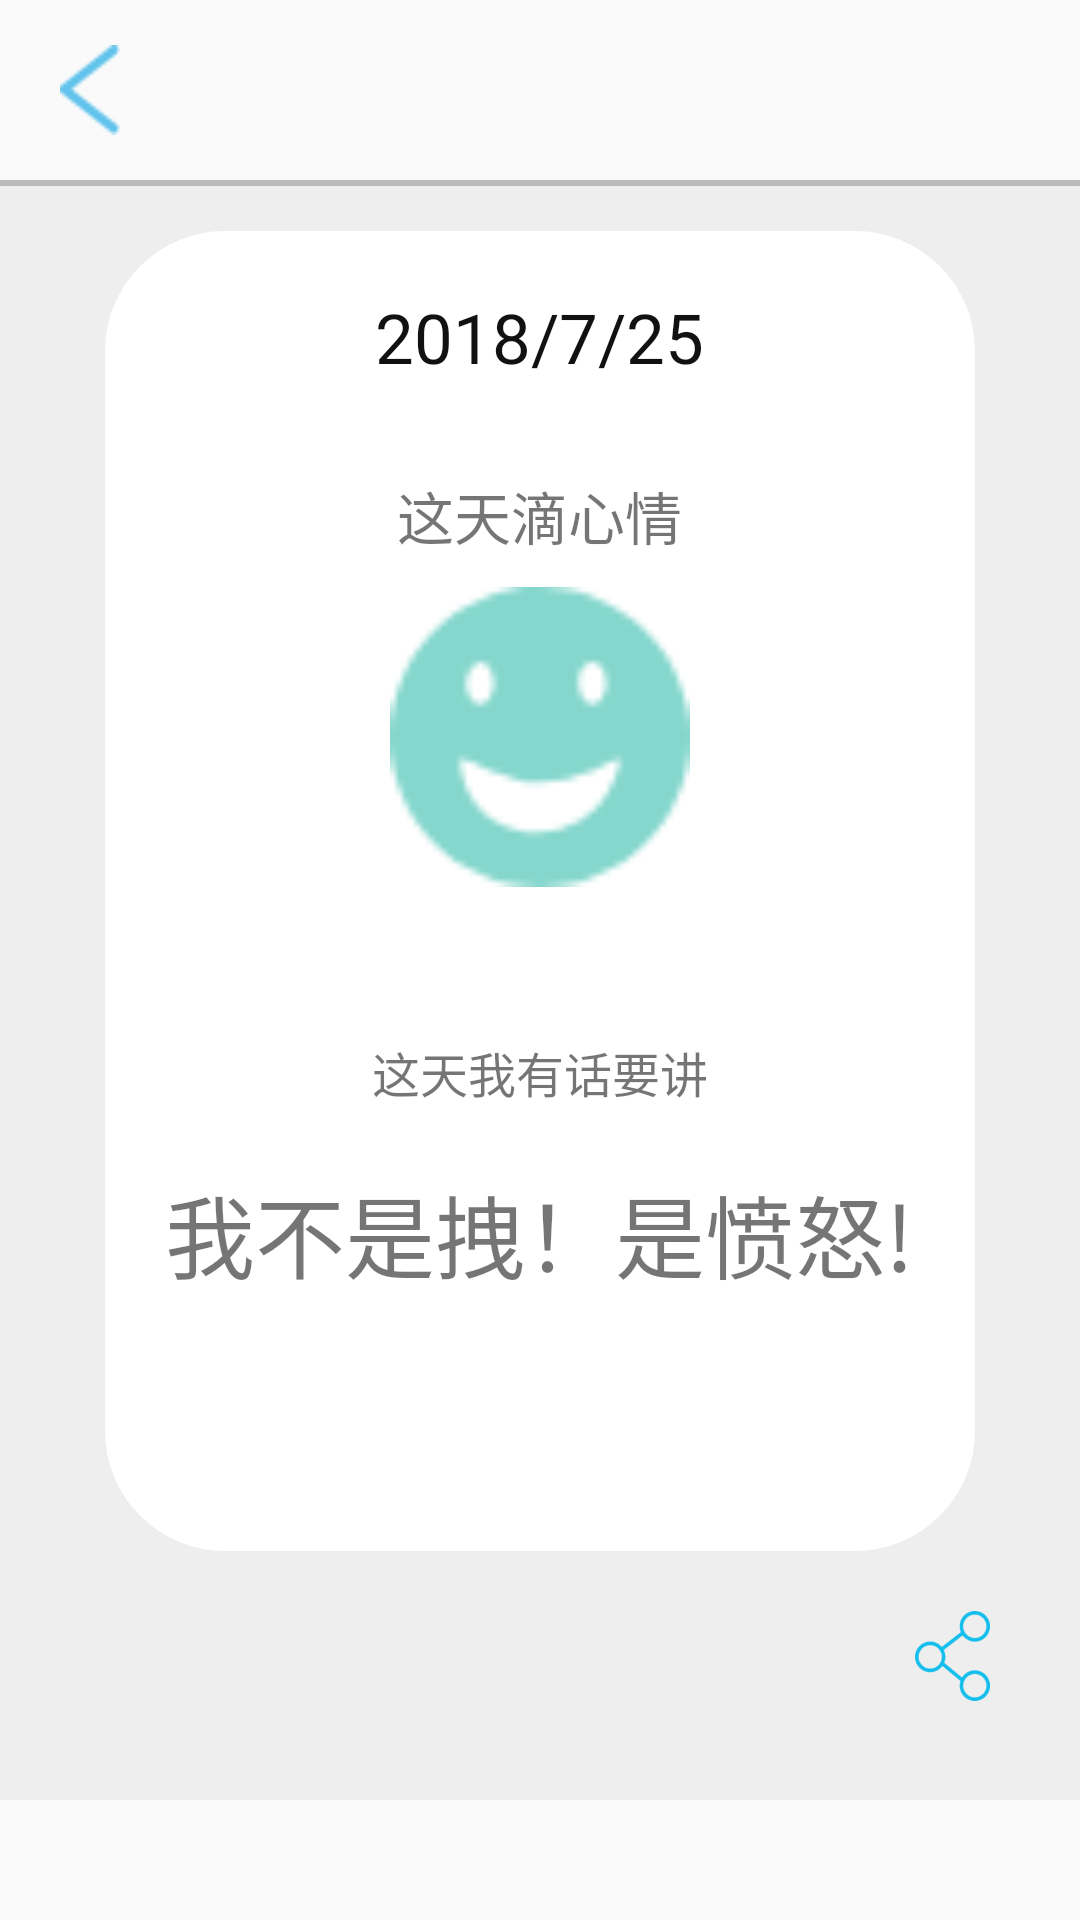

Icon click points for this 1080w x 1920h phone screenshot, format (x=x, y=y):
emotionhappy: (x=540, y=737)
left: (x=90, y=90)
share: (x=952, y=1656)
